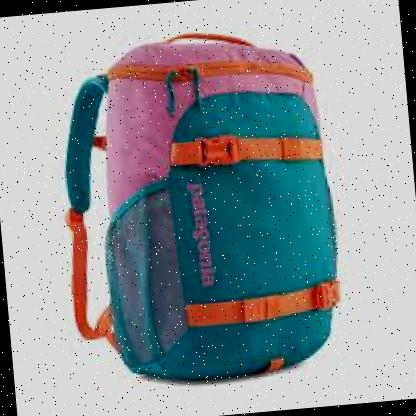bag: (46, 18, 354, 395)
